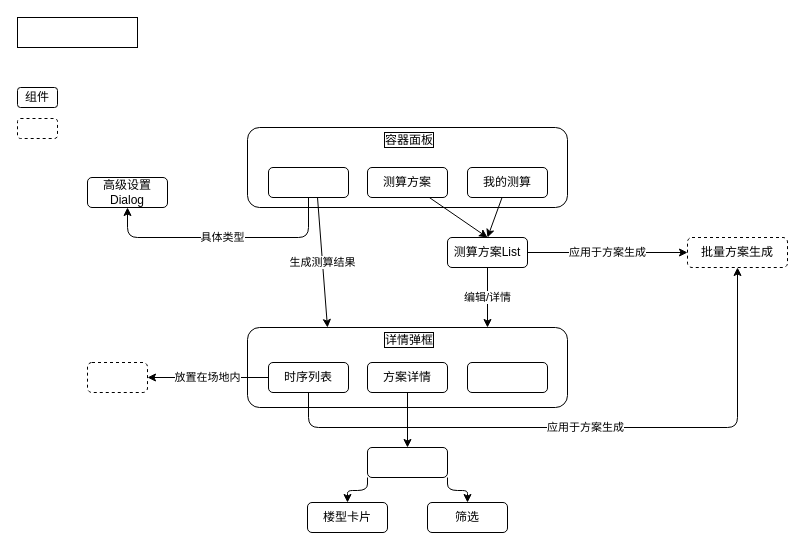
Image size: 805x550. Some labels were removed from this diagram. The shapes that lost their labels are listed below. From the top down, each one's centre as x and y in pixels, then its label:
At (77,32): "Version.20220715".
At (37,128): "功能".
At (308,182): "测算设置".
At (117,377): "手动排".
At (507,377): "指标详情".
At (407,462): "组合详情".
